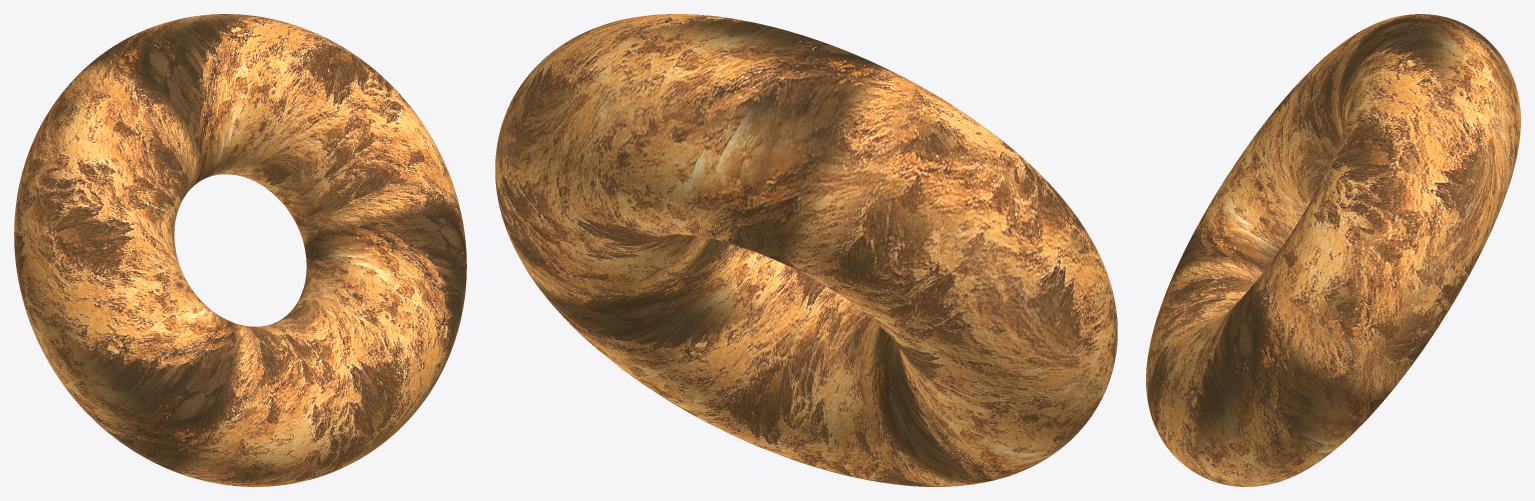
The model's file is planet5.glb.
3 renders of one model, left to right at view 1: azimuth 30°, elevation 25°; view 2: azimuth 150°, elevation 25°; view 3: azimuth 270°, elevation 25°, orthographic. The views are drawn at different scales.
Parts seen in each view (by area): view 1: world; view 2: world; view 3: world.
Part boxes in pixels (x1=…): world: x1=14, y1=14, x2=466, y2=486; world: x1=495, y1=14, x2=1117, y2=486; world: x1=1146, y1=14, x2=1520, y2=486.
Bounding box in the file's own units: 3 × 2.64 × 2.15.
Materials: 1 (1 with a texture image).
